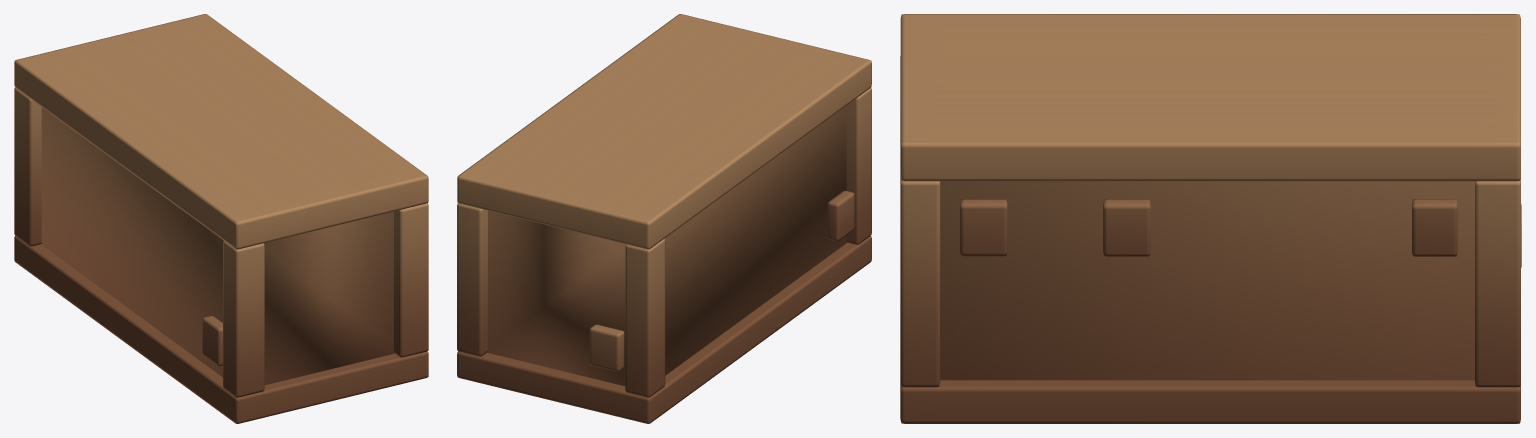
Rendered from SM_Clay_Body_07.fbx.
The picture shows the model from 3 angles, left to right: view 1: azimuth 30°, elevation 25°; view 2: azimuth 150°, elevation 25°; view 3: azimuth 270°, elevation 25°; orthographic projection. The views are drawn at different scales.
Visible parts, largest first — view 1: SM_Clay_Body_07; view 2: SM_Clay_Body_07; view 3: SM_Clay_Body_07.
Part boxes in pixels (left/top/right/bottom): SM_Clay_Body_07: left=14, top=14, right=428, bottom=423; SM_Clay_Body_07: left=457, top=14, right=871, bottom=423; SM_Clay_Body_07: left=900, top=14, right=1521, bottom=423.
Bounding box in the file's own units: 1 × 0.9984 × 2.
Materials: 1 (1 with a texture image).
